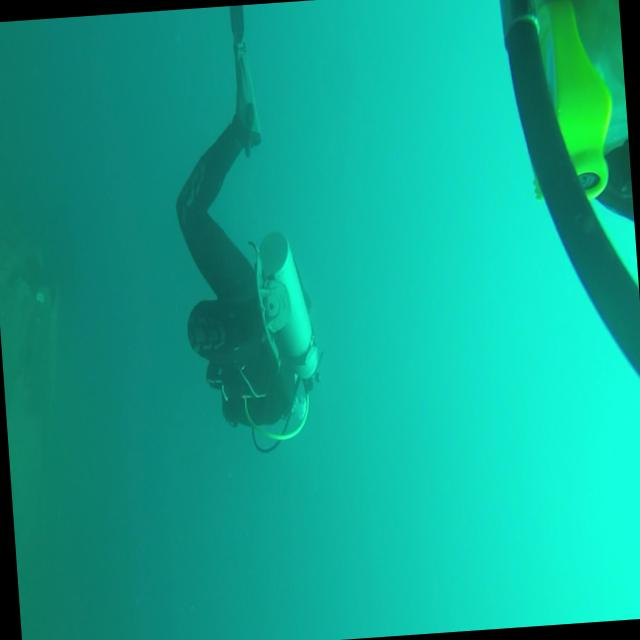human: (161, 3, 329, 458)
